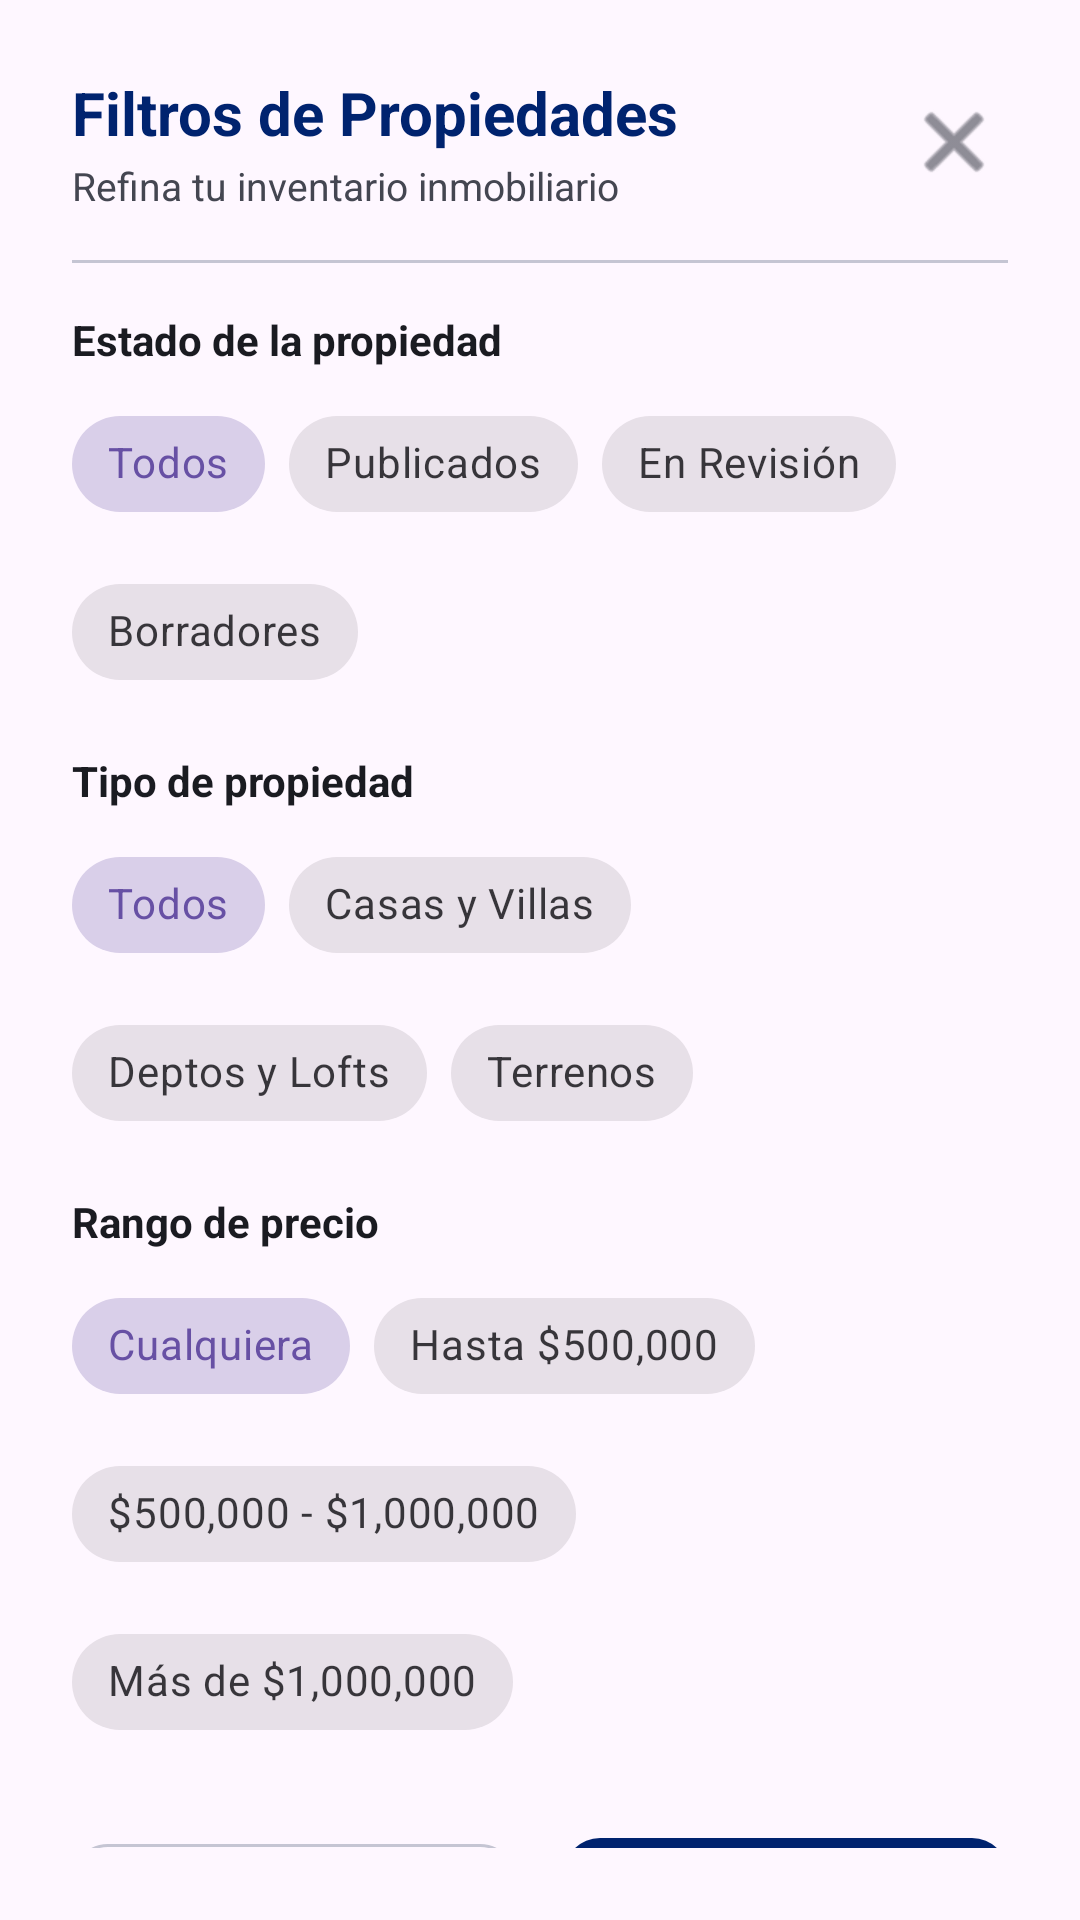

Screen size 1080px×1920px. Icon name, then its box in pixels as (x1, y1, x2, y2):
Cerrar: (924, 112, 984, 172)
